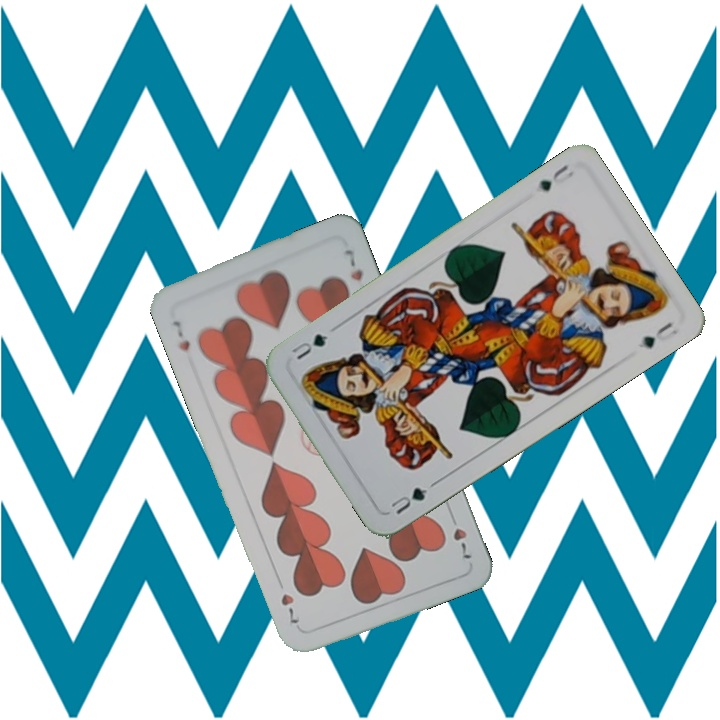GU: (385, 483, 430, 517), (533, 160, 576, 194)
H7: (445, 508, 474, 562), (168, 316, 193, 354)
